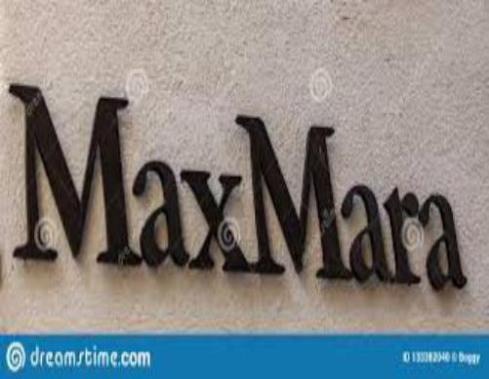MAX-MARA: (5, 79, 472, 289)
